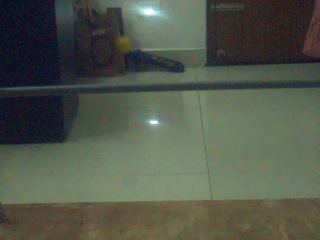ball: (115, 36, 131, 54)
